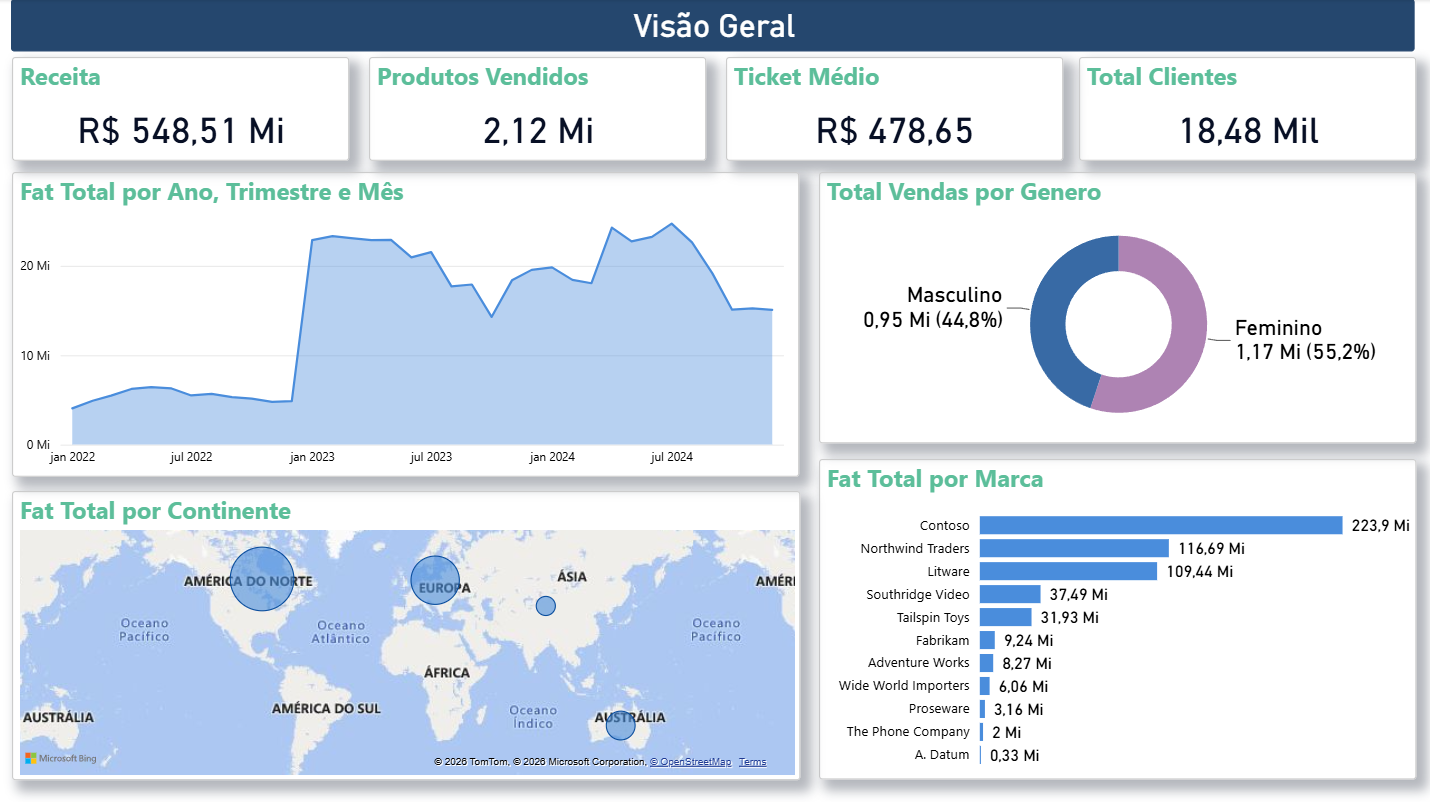

Layout of this report page (visuals, bound fields, positions):
{"tool":"powerbi","page":{"name":"Visão Geral","canvas":[1280,720],"ordinal":0},"visuals":[{"type":"textbox","box":[9.9,0,1257.3,46.6],"z":0},{"type":"cardVisual","title":"Receita","fields":{"Data":["Base Vendas.Fat Total"]},"box":[10.7,51.9,301.8,93.1],"z":1000},{"type":"cardVisual","title":"Produtos Vendidos","fields":{"Data":["Base Vendas.Total Vendas"]},"box":[330.4,51.9,301.8,93.1],"z":2000},{"type":"cardVisual","title":"Ticket Médio","fields":{"Data":["Base Vendas.Ticket Médio"]},"box":[650.1,51.9,301.8,93.1],"z":3000},{"type":"cardVisual","title":"Total Clientes","fields":{"Data":["Base Vendas.Qtd Clientes"]},"box":[966.3,51.9,301.8,93.1],"z":4000},{"type":"stackedAreaChart","fields":{"Category":["Base Vendas.Data Venda.Variation.Hierarquia de datas.Ano","Base Vendas.Data Venda.Variation.Hierarquia de datas.Trimestre","Base Vendas.Data Venda.Variation.Hierarquia de datas.Mês"],"Y":["Base Vendas.Fat Total"]},"box":[10.7,154.9,704.8,273.1],"z":5000},{"type":"donutChart","fields":{"Category":["Cadastro Clientes.Genero"],"Y":["Base Vendas.Total Vendas"]},"box":[733.4,154.9,534.6,242.7],"z":6000},{"type":"clusteredBarChart","fields":{"Category":["Cadastro Produtos.Marca"],"Y":["Base Vendas.Fat Total"]},"box":[733.4,411.9,534.6,286.6],"z":7000},{"type":"map","fields":{"Category":["Cadastro Lojas.Continente"],"Size":["Base Vendas.Fat Total"]},"box":[10.7,440.6,705.7,258.8],"z":8000}]}

Visuals, with their boxes in screenshot pixels (x1, y1, x2, y2), scaled from the page's 1280x720 canvas onto the 1430x802 screenshot:
textbox: 11/0/1416/52
"Receita" cardVisual: 12/58/349/162
"Produtos Vendidos" cardVisual: 369/58/706/162
"Ticket Médio" cardVisual: 726/58/1063/162
"Total Clientes" cardVisual: 1080/58/1417/162
stackedAreaChart - Base Vendas.Data Venda.Variation.Hierarquia de datas.Ano x Base Vendas.Data Venda.Variation.Hierarquia de datas.Trimestre: 12/173/799/477
donutChart - Cadastro Clientes.Genero x Base Vendas.Total Vendas: 819/173/1417/443
clusteredBarChart - Cadastro Produtos.Marca x Base Vendas.Fat Total: 819/459/1417/778
map - Cadastro Lojas.Continente x Base Vendas.Fat Total: 12/491/800/779
